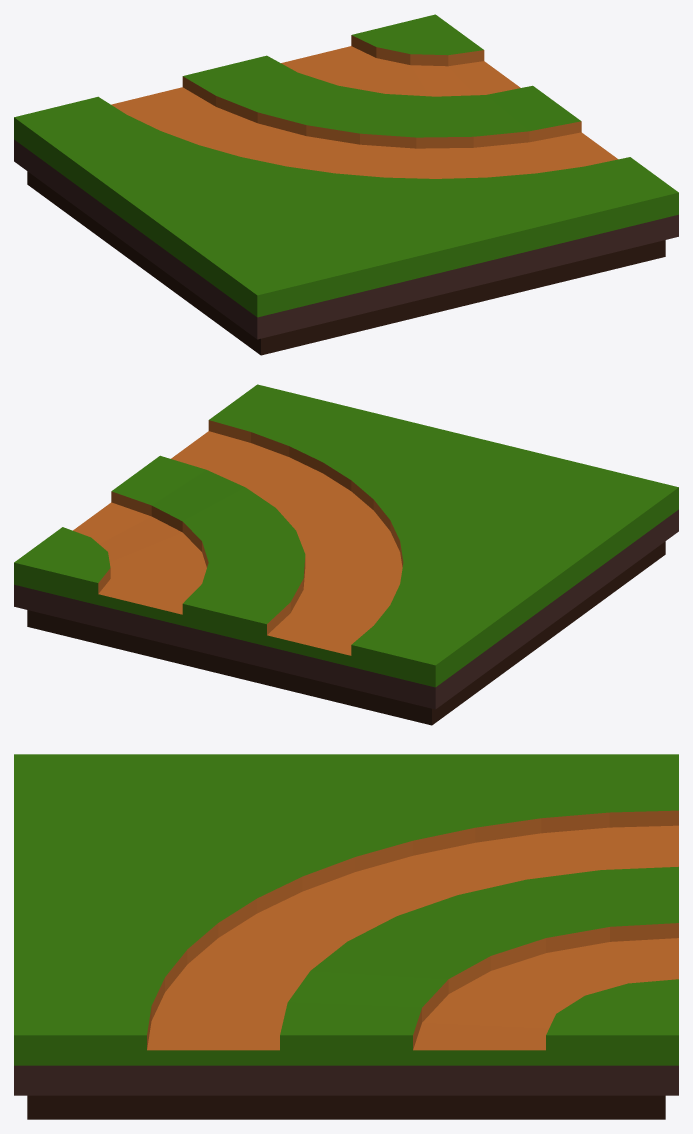
Rendered from Tile_Grass_Road_Corner.fbx.
3 views of the same model, one above another, from view 1: azimuth 30°, elevation 25°; view 2: azimuth 150°, elevation 25°; view 3: azimuth 270°, elevation 25° (orthographic). The views are drawn at different scales.
Visible parts, largest first — view 1: Tile_Grass_Road_Corner; view 2: Tile_Grass_Road_Corner; view 3: Tile_Grass_Road_Corner.
Boxes of the visible parts, x1,y1,x2,y2 form: Tile_Grass_Road_Corner: (14,14,678,355); Tile_Grass_Road_Corner: (14,384,678,725); Tile_Grass_Road_Corner: (14,754,678,1119).
Size of the model in its own units: 100 by 14.9 by 100.
